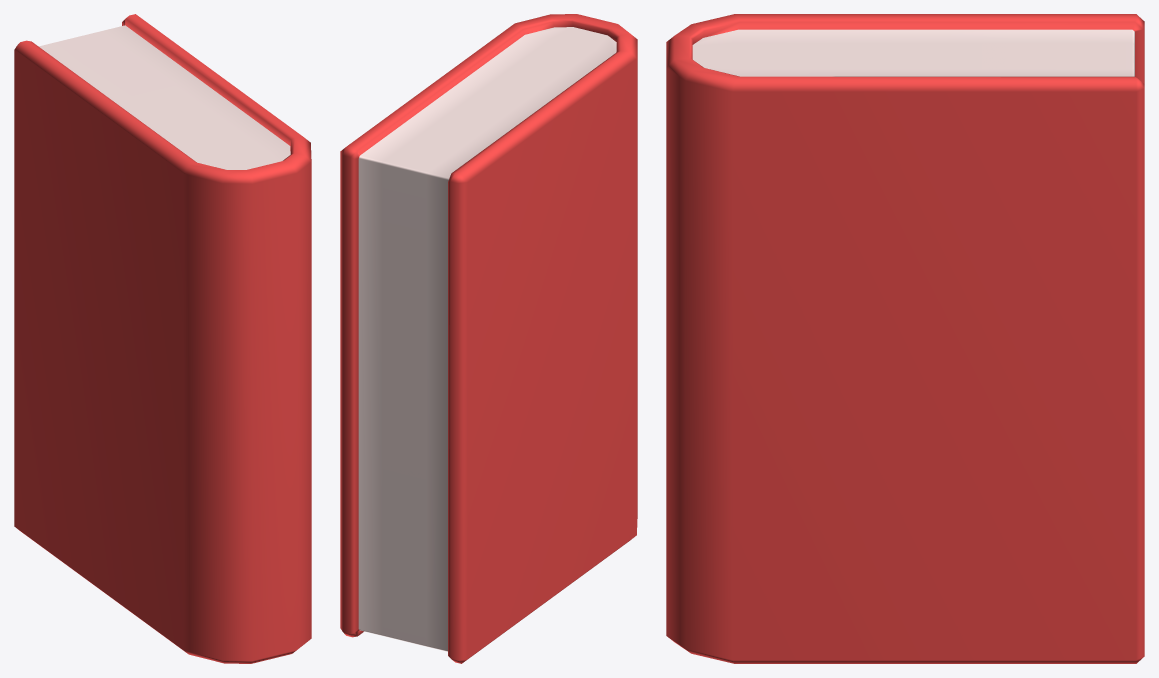
File: Store_7_Book_1.glb
3 renders of one model, left to right at view 1: azimuth 30°, elevation 25°; view 2: azimuth 150°, elevation 25°; view 3: azimuth 270°, elevation 25°, orthographic. The views are drawn at different scales.
Parts seen in each view (by area): view 1: Store_7_Book_1; view 2: Store_7_Book_1; view 3: Store_7_Book_1.
Part boxes in pixels (left/top/right/bottom): Store_7_Book_1: left=14, top=14, right=311, bottom=663; Store_7_Book_1: left=340, top=14, right=637, bottom=663; Store_7_Book_1: left=666, top=14, right=1144, bottom=663.
Bounding box in the file's own units: 0.1558 × 0.5728 × 0.4257.
1 material, 1 textured.
